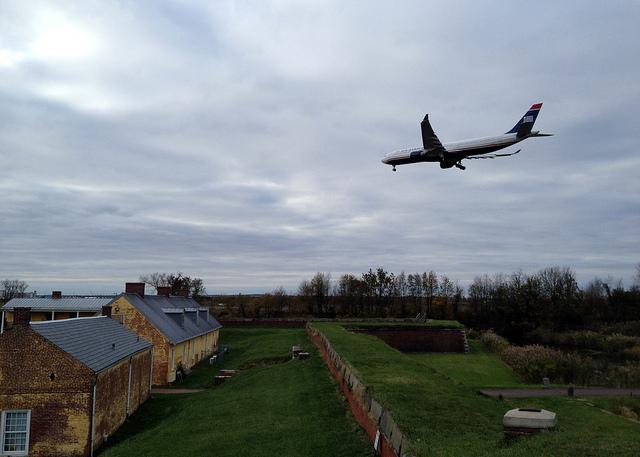airplane: (367, 95, 562, 178)
